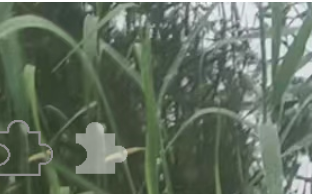target: (73, 121, 133, 176)
